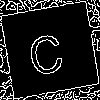C: (24, 25, 66, 77)
